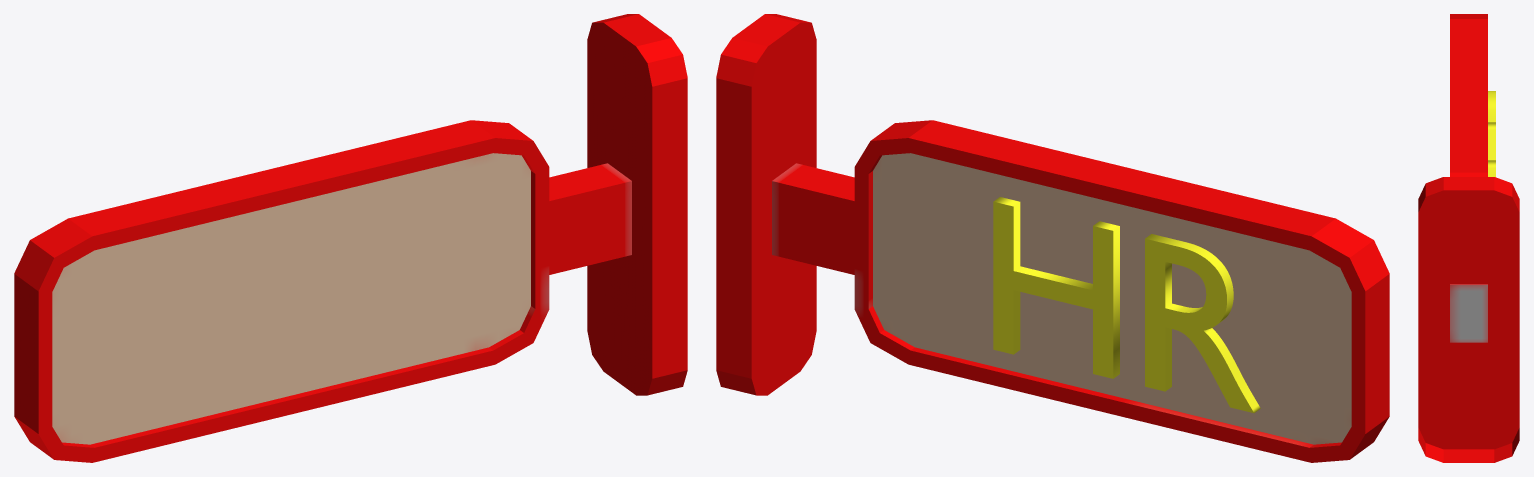
Rendered from signeboard_hr.fbx.
3 renders of one model, left to right at view 1: azimuth 30°, elevation 25°; view 2: azimuth 150°, elevation 25°; view 3: azimuth 270°, elevation 25°, orthographic. The views are drawn at different scales.
Visible parts, largest first — view 1: signeboard_hr; view 2: signeboard_hr; view 3: signeboard_hr.
Boxes of the visible parts, left/top/right/bottom form: signeboard_hr: left=14, top=14, right=687, bottom=462; signeboard_hr: left=716, top=14, right=1389, bottom=462; signeboard_hr: left=1418, top=14, right=1519, bottom=462.
Size of the model in its own units: 554 by 293 by 98.87.
